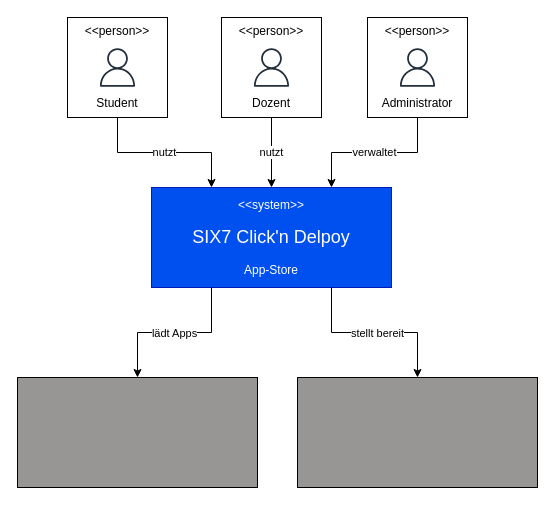
This 555x505 diagram has some shape labels left out. Each missing label, with the centre of its shape:
<<external_system>> GitHub App-Repositories Hosten Infrastructure as Code: point (137, 432)
<<external_system>> OpenStack-Infrastruktur Zielplattform für Bereitstellung: point (417, 432)
